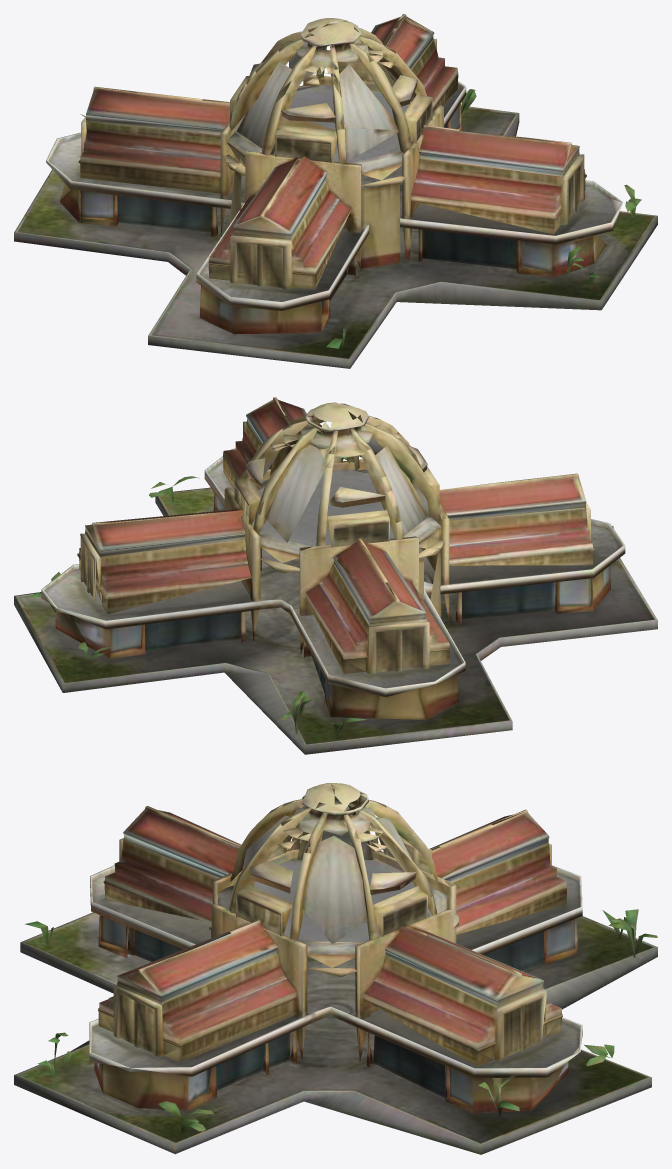
The model's file is lm_pp_market.glb.
3 renders of one model, top to bottom at view 1: azimuth 30°, elevation 25°; view 2: azimuth 150°, elevation 25°; view 3: azimuth 270°, elevation 25°, orthographic. The views are drawn at different scales.
Parts seen in each view (by area): view 1: Body, Trim; view 2: Body, Trim; view 3: Body, Trim.
Boxes of the visible parts, x1,y1,x2,y2 form: Body: [14, 14, 657, 368]; Trim: [226, 18, 395, 222]; Body: [14, 397, 657, 754]; Trim: [271, 404, 440, 600]; Body: [14, 783, 657, 1154]; Trim: [278, 783, 431, 851].
Bounding box in the file's own units: 38.45 × 15.32 × 38.67.
2 materials, 2 textured.
